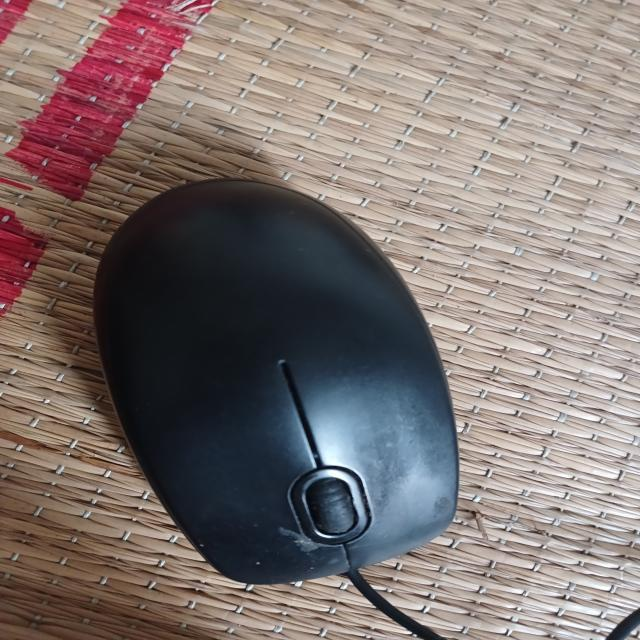mouse: (86, 178, 470, 586)
